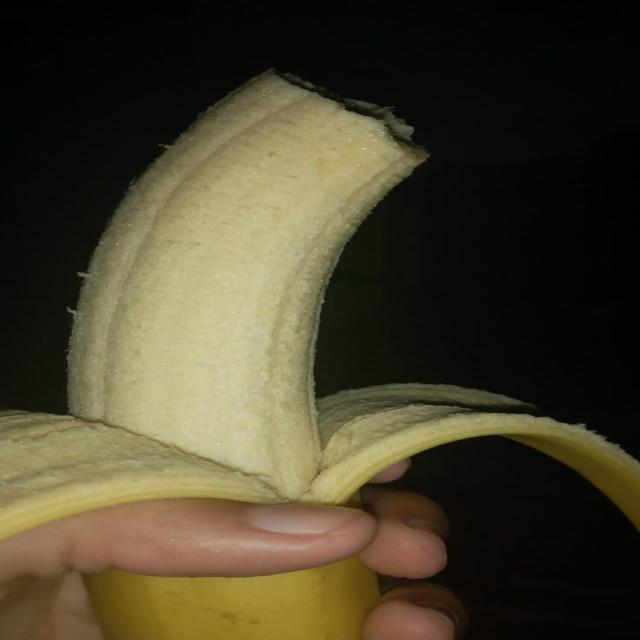banana: (0, 72, 639, 537)
